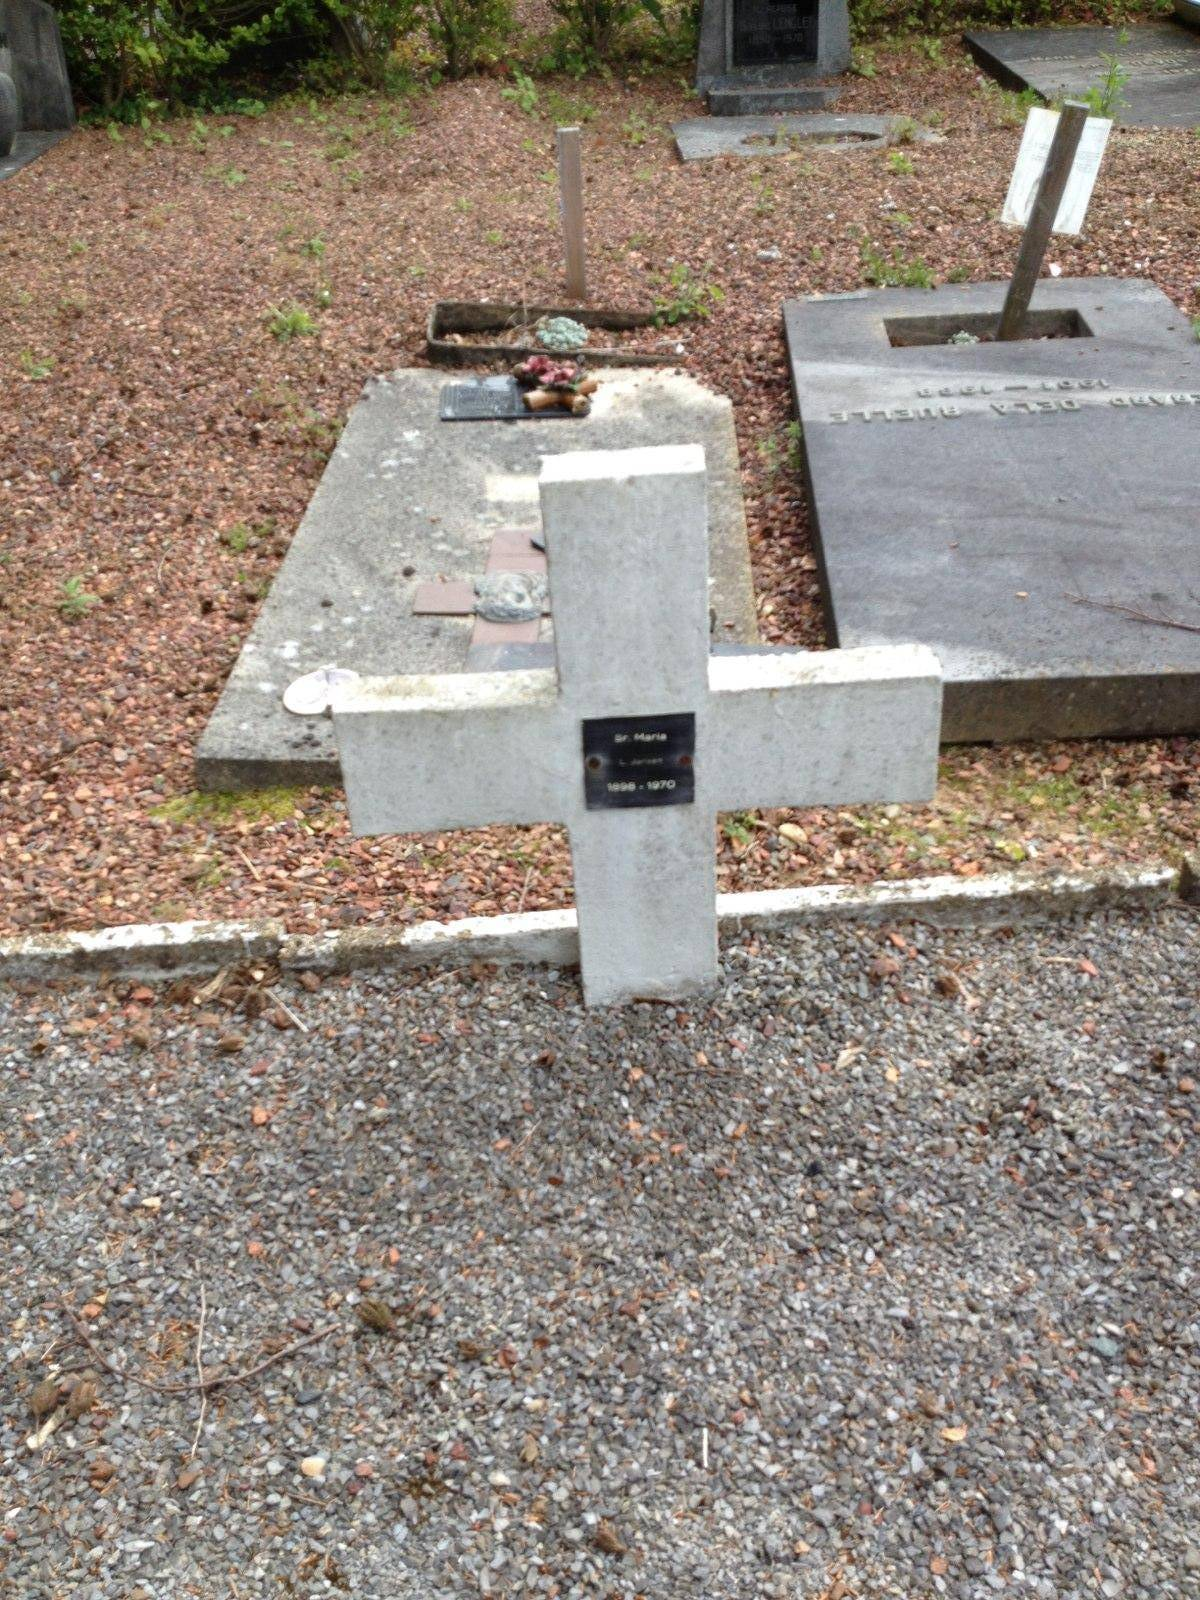upright: (311, 474, 988, 1116)
